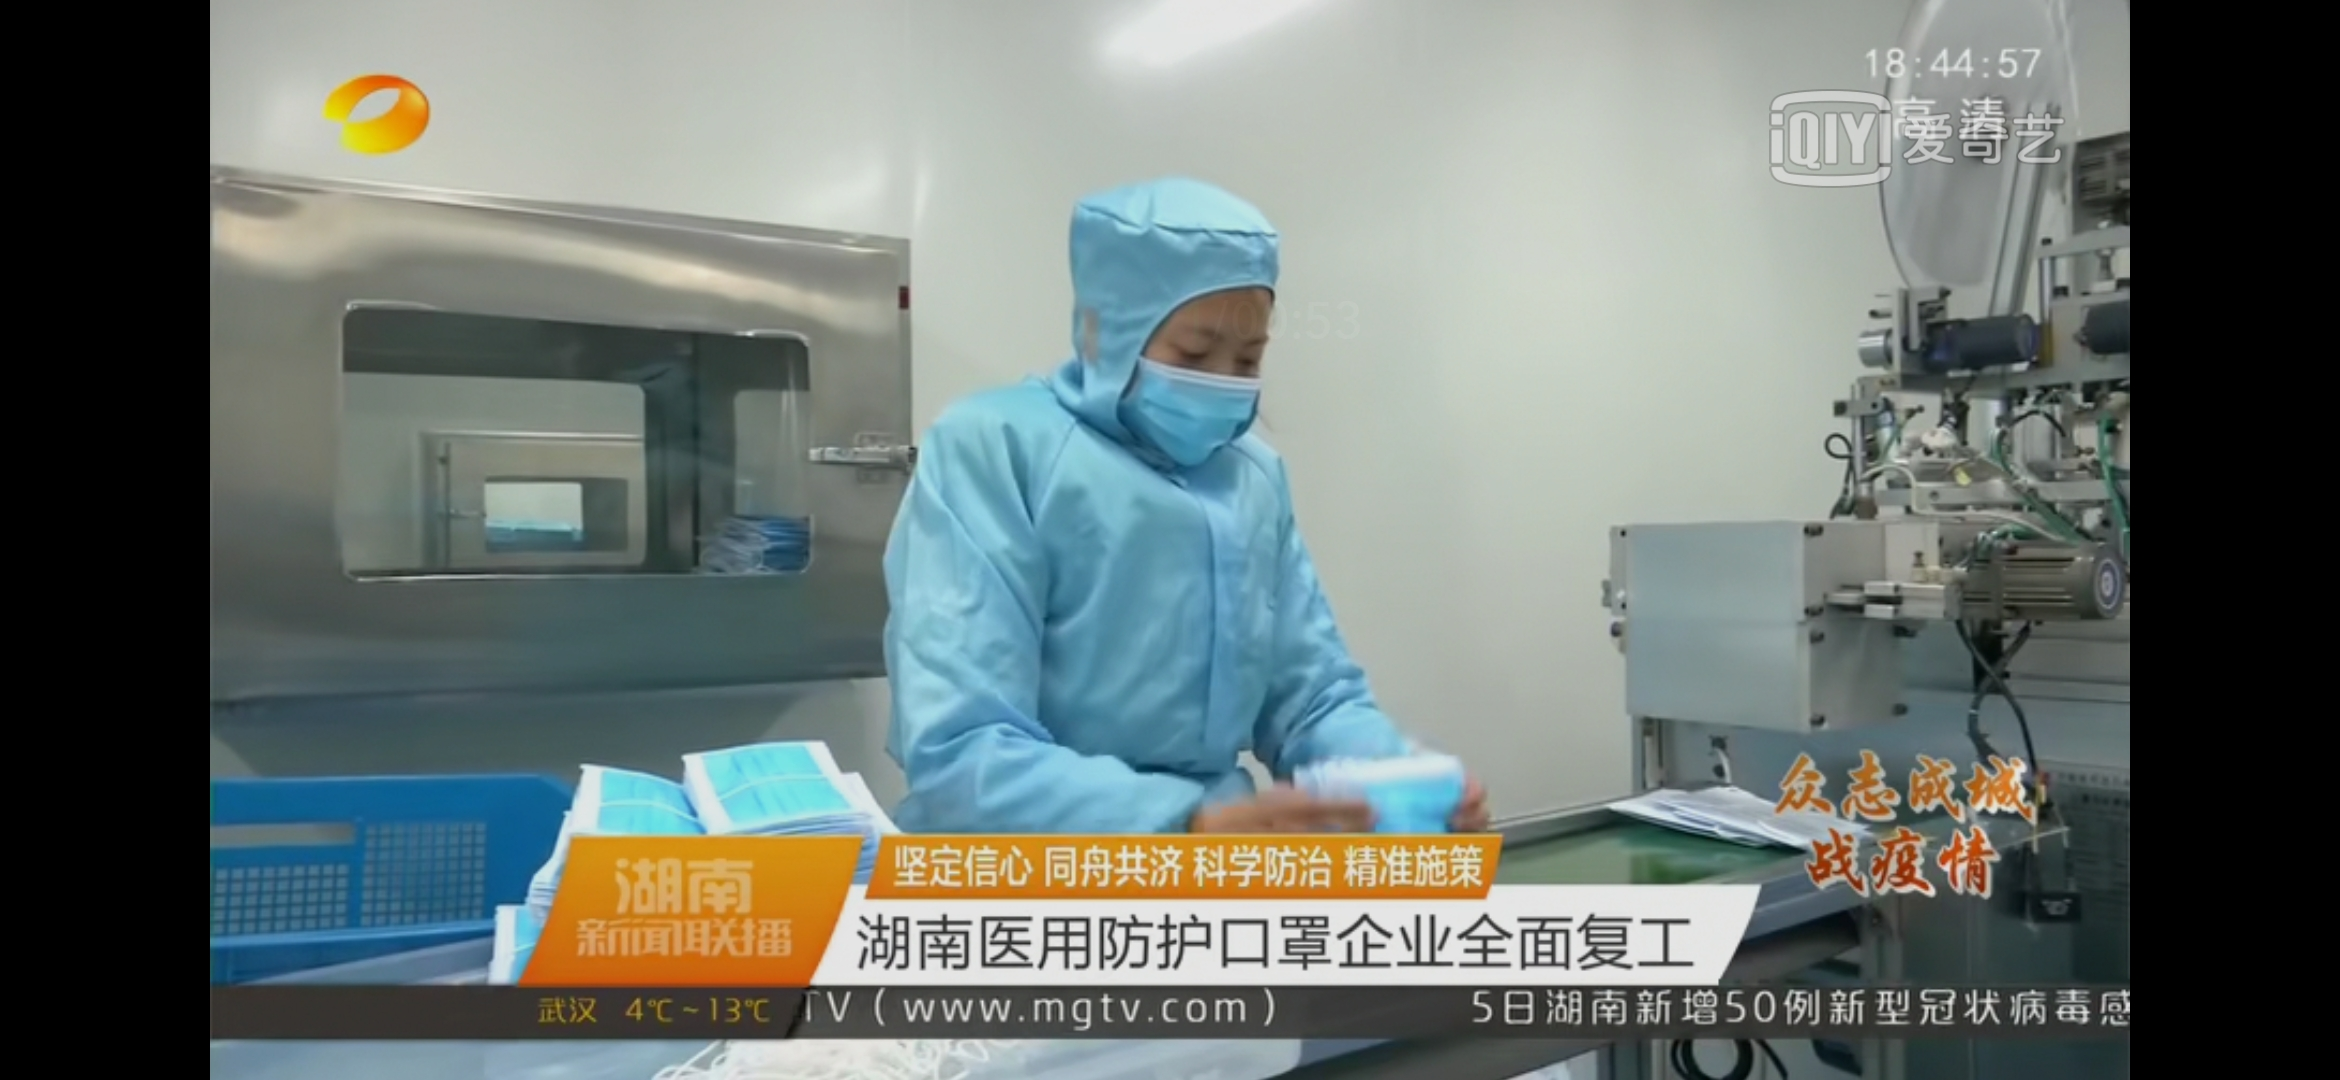correctlyWear: (1116, 295, 1268, 473)
